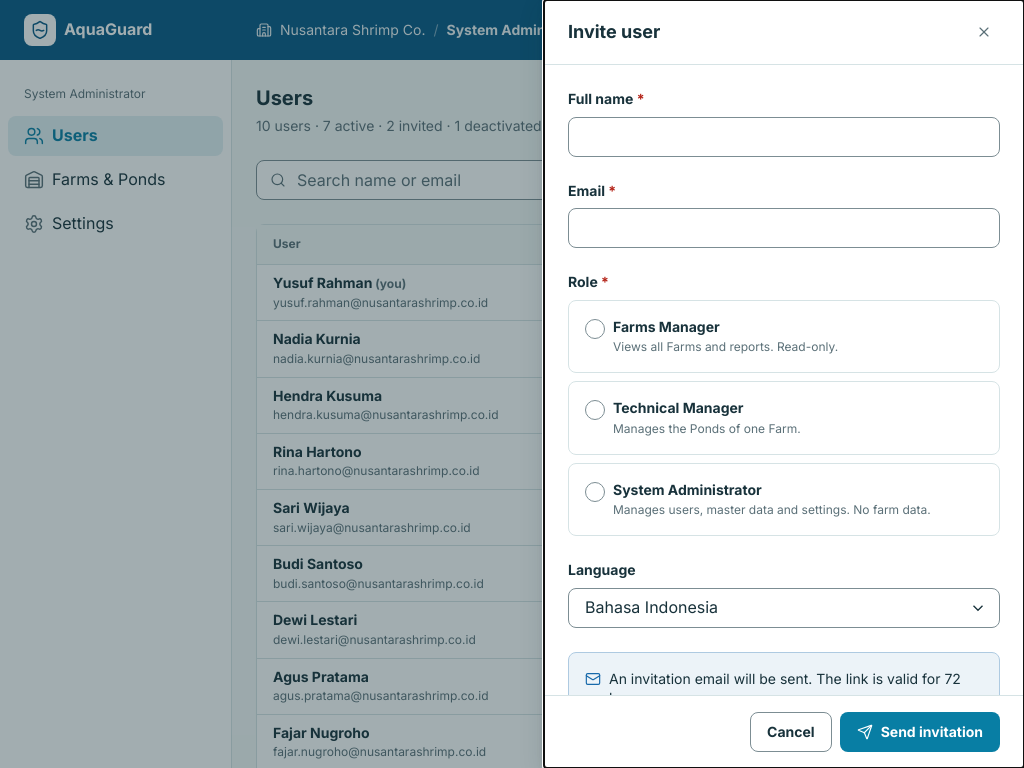
AD-01 Users › shows the server error when the email is already used
Type "Sari Again" into the field labelled "Full name *" at (784, 137), box x1=568 y1=117 x2=1000 y2=157
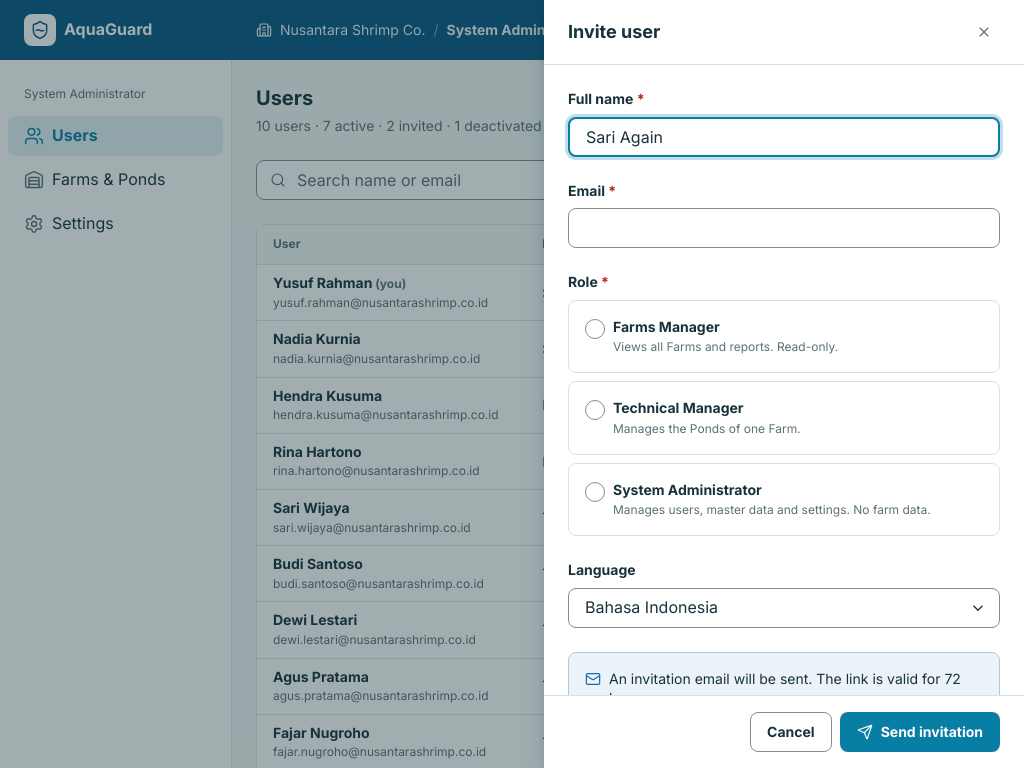
Type "sari.wijaya@nusantarashrimp.co.id" into the field labelled "Email *" at (784, 228), box x1=568 y1=208 x2=1000 y2=248
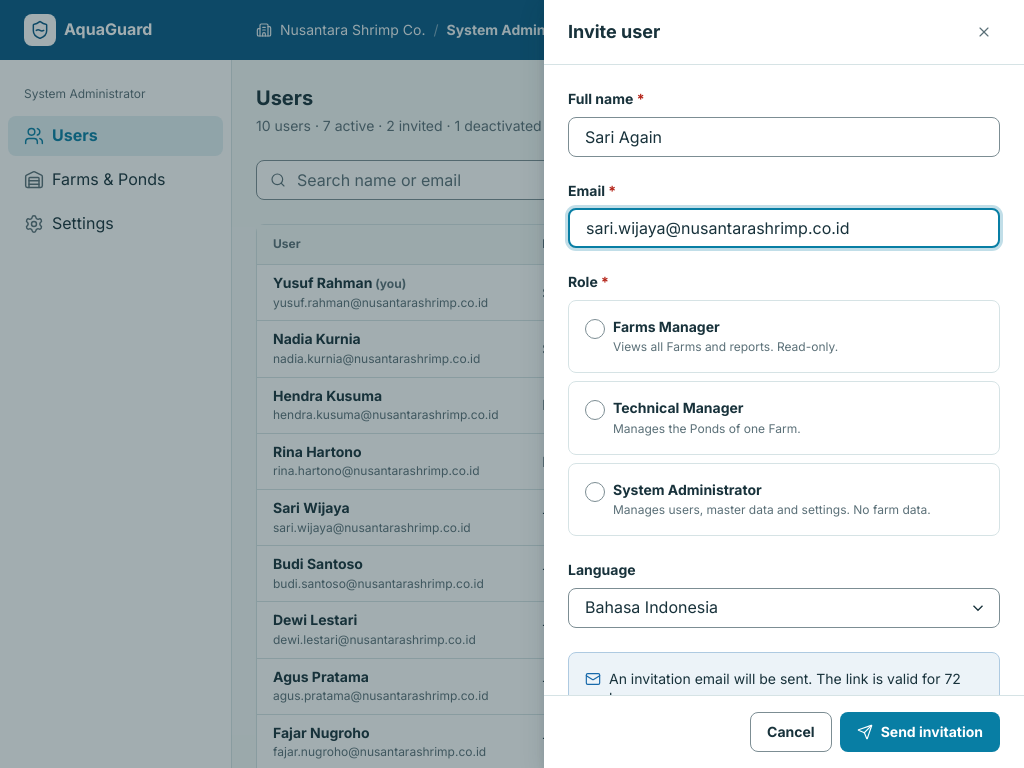
Click the radio button labelled "Farms Manager" at (784, 336), box x1=568 y1=300 x2=1000 y2=373
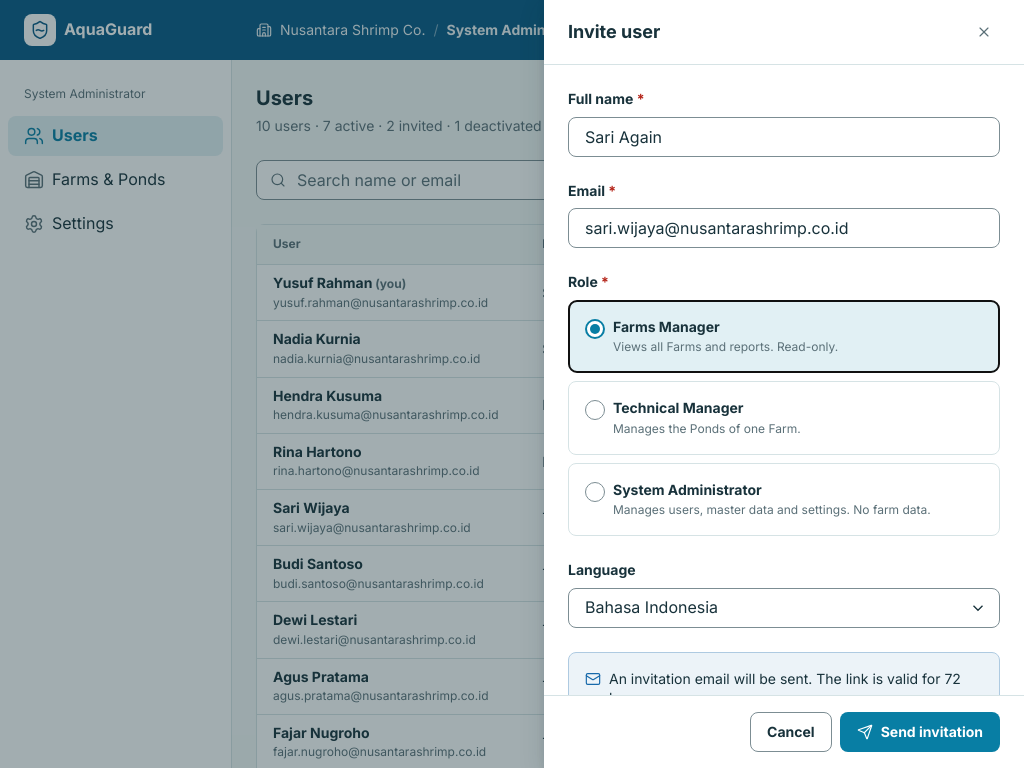
Click the button "Send invitation" at (920, 732), box x1=840 y1=712 x2=1000 y2=752
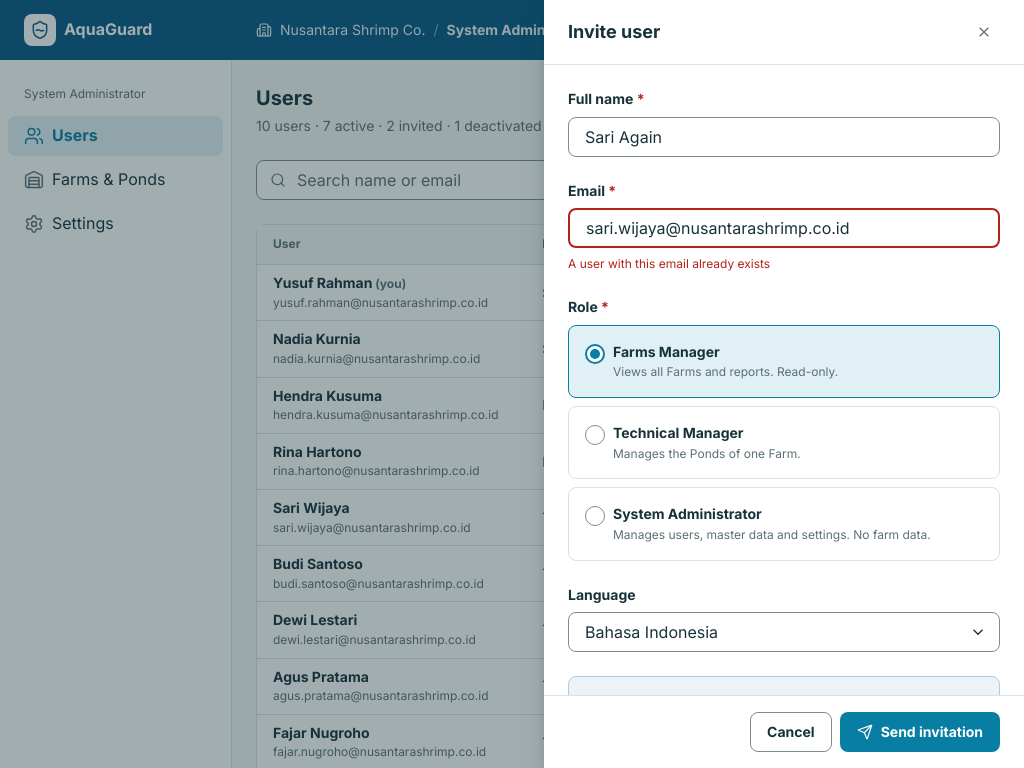
Check: the text "A user with this email already exists" is shown, box x1=568 y1=256 x2=770 y2=271
